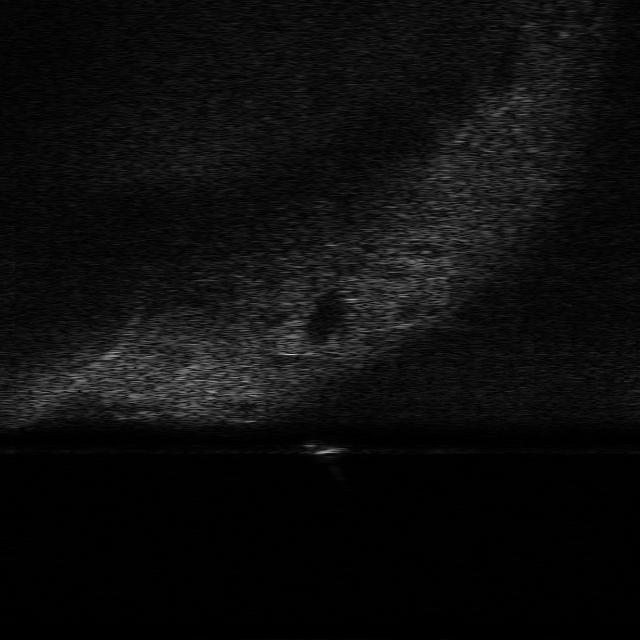cube: (292, 439, 348, 459)
